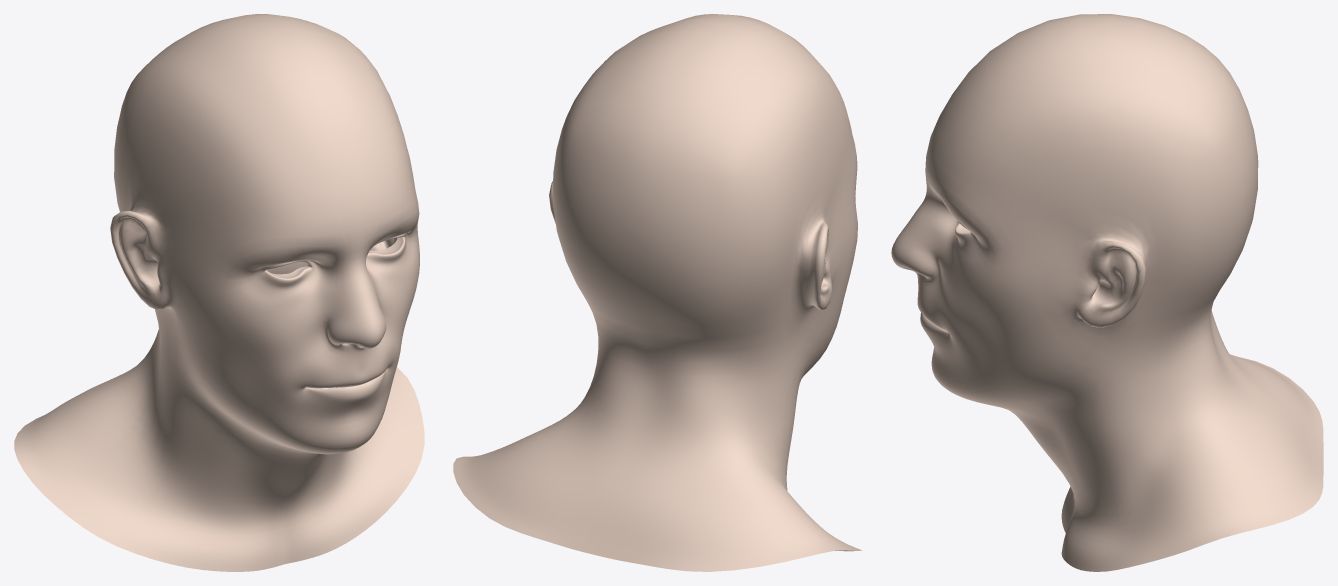
The model's file is head.glb.
3 views of the same model, side by side, from view 1: azimuth 30°, elevation 25°; view 2: azimuth 150°, elevation 25°; view 3: azimuth 270°, elevation 25° (orthographic).
Visible parts, largest first — view 1: head; view 2: head; view 3: head.
Boxes of the visible parts, left/top/right/bottom form: head: left=14, top=14, right=424, bottom=571; head: left=453, top=14, right=862, bottom=571; head: left=891, top=14, right=1323, bottom=571.
Size of the model in its own units: 0.7663 by 1 by 0.7618.
